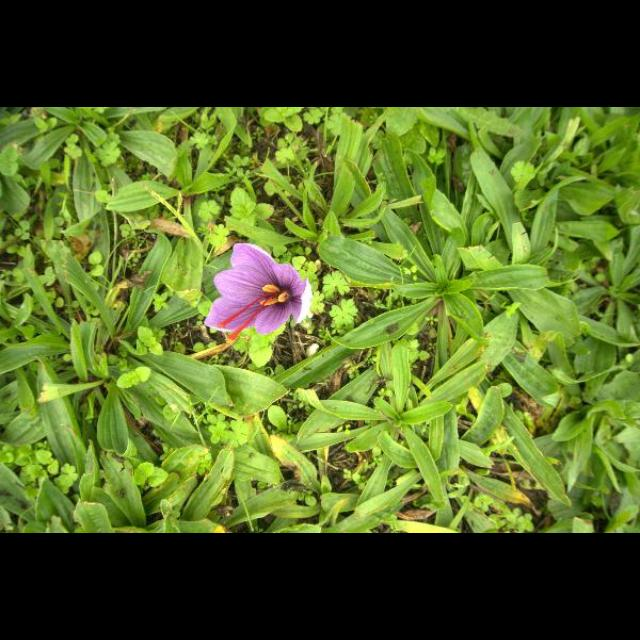flower: (204, 244, 314, 340)
